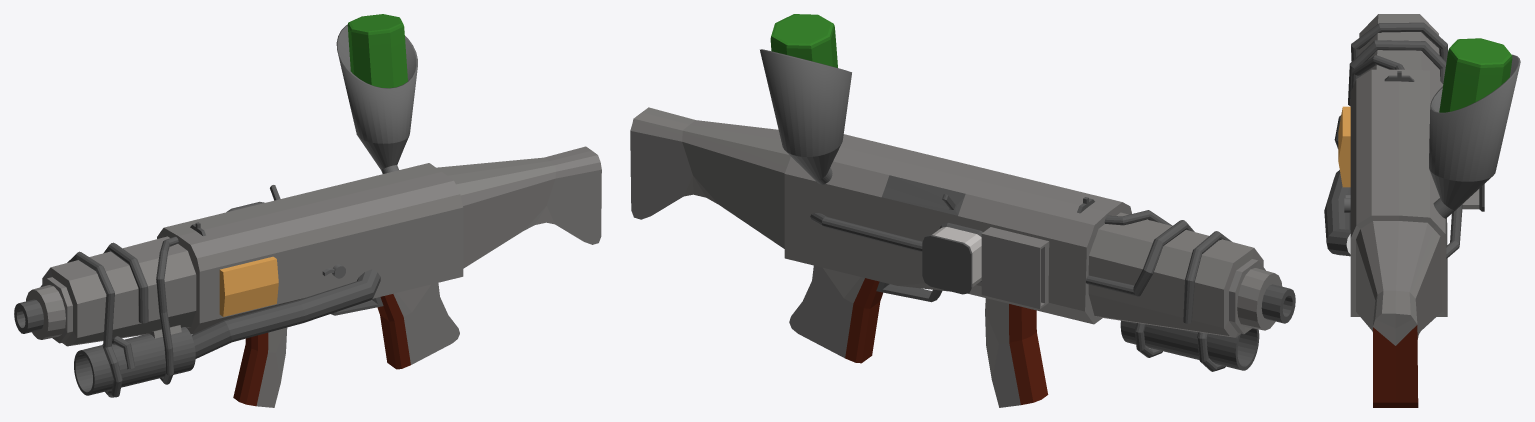
Rendered from FixedWaterGun.fbx.
3 views of the same model, side by side, from view 1: azimuth 30°, elevation 25°; view 2: azimuth 150°, elevation 25°; view 3: azimuth 270°, elevation 25° (orthographic). The views are drawn at different scales.
Parts seen in each view (by area): view 1: Cube.010, bottle; view 2: Cube.010, bottle, zatvor.001; view 3: Cube.010, bottle.
Boxes of the visible parts, x1,y1,x2,y2 form: Cube.010: [14, 24, 601, 407]; bottle: [347, 14, 407, 88]; Cube.010: [630, 49, 1295, 407]; bottle: [770, 14, 837, 67]; zatvor.001: [882, 175, 965, 215]; Cube.010: [1324, 14, 1520, 407]; bottle: [1439, 38, 1512, 112].
Size of the model in its own units: 370 by 200 by 97.27.
